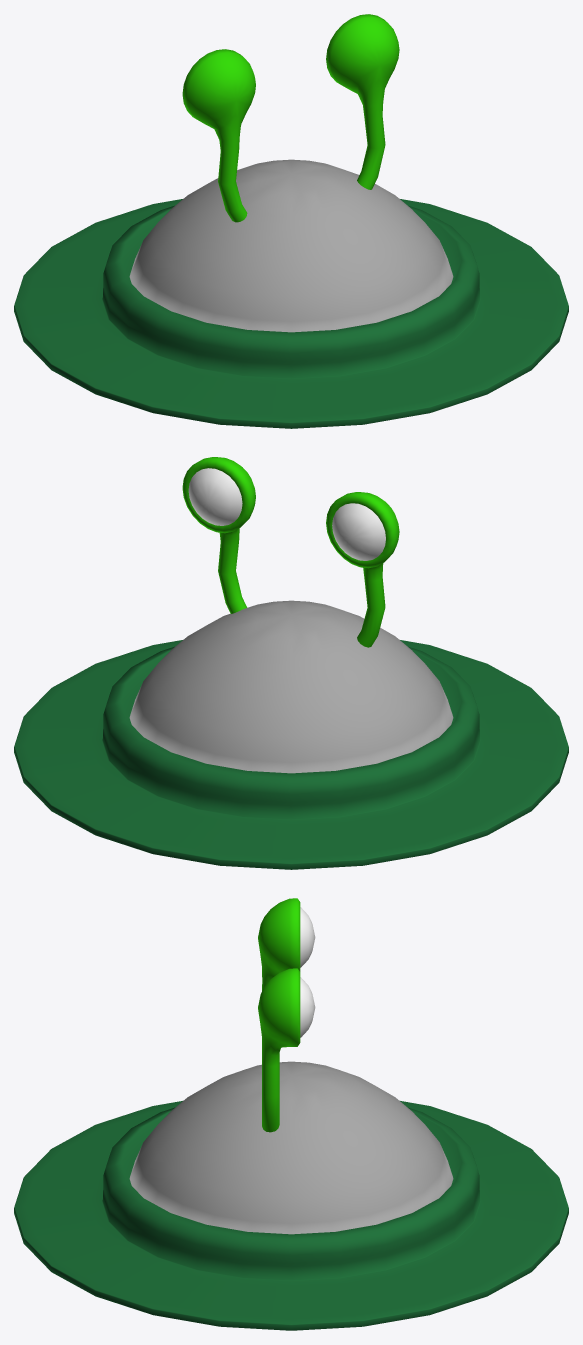
File: Snailship_untextured - Copy.FBX
3 views of the same model, one above another, from view 1: azimuth 30°, elevation 25°; view 2: azimuth 150°, elevation 25°; view 3: azimuth 270°, elevation 25° (orthographic).
Parts seen in each view (by area): view 1: Cylinder01; view 2: Cylinder01; view 3: Cylinder01.
Part boxes in pixels (<box>): Cylinder01: <box>14,14,568,428</box>; Cylinder01: <box>14,457,568,869</box>; Cylinder01: <box>14,898,568,1330</box>.
Size of the model in its own units: 147 by 97.61 by 147.
